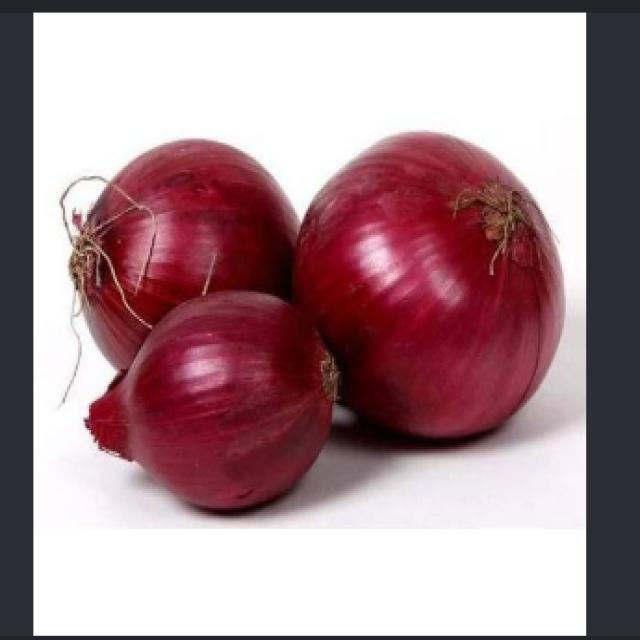mechanical_damage: (83, 121, 528, 489)
